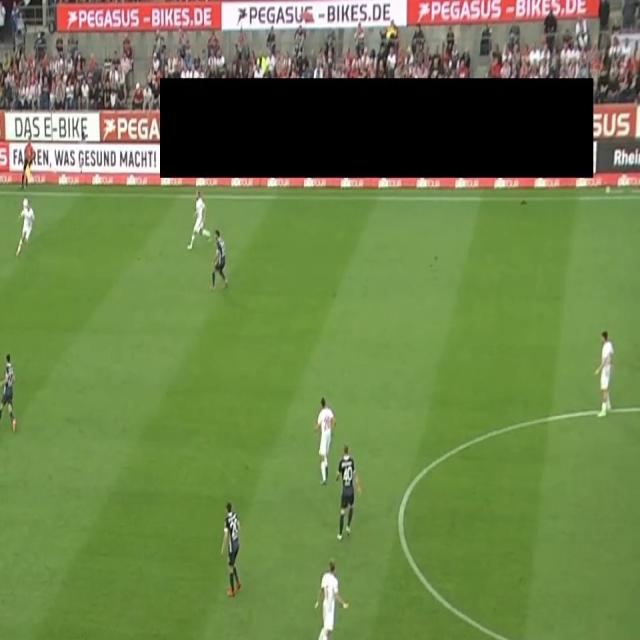ball: (22, 197, 28, 210)
